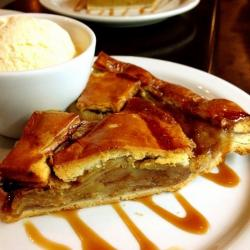apple_pie: (5, 56, 250, 223)
icecream: (1, 14, 78, 71)
